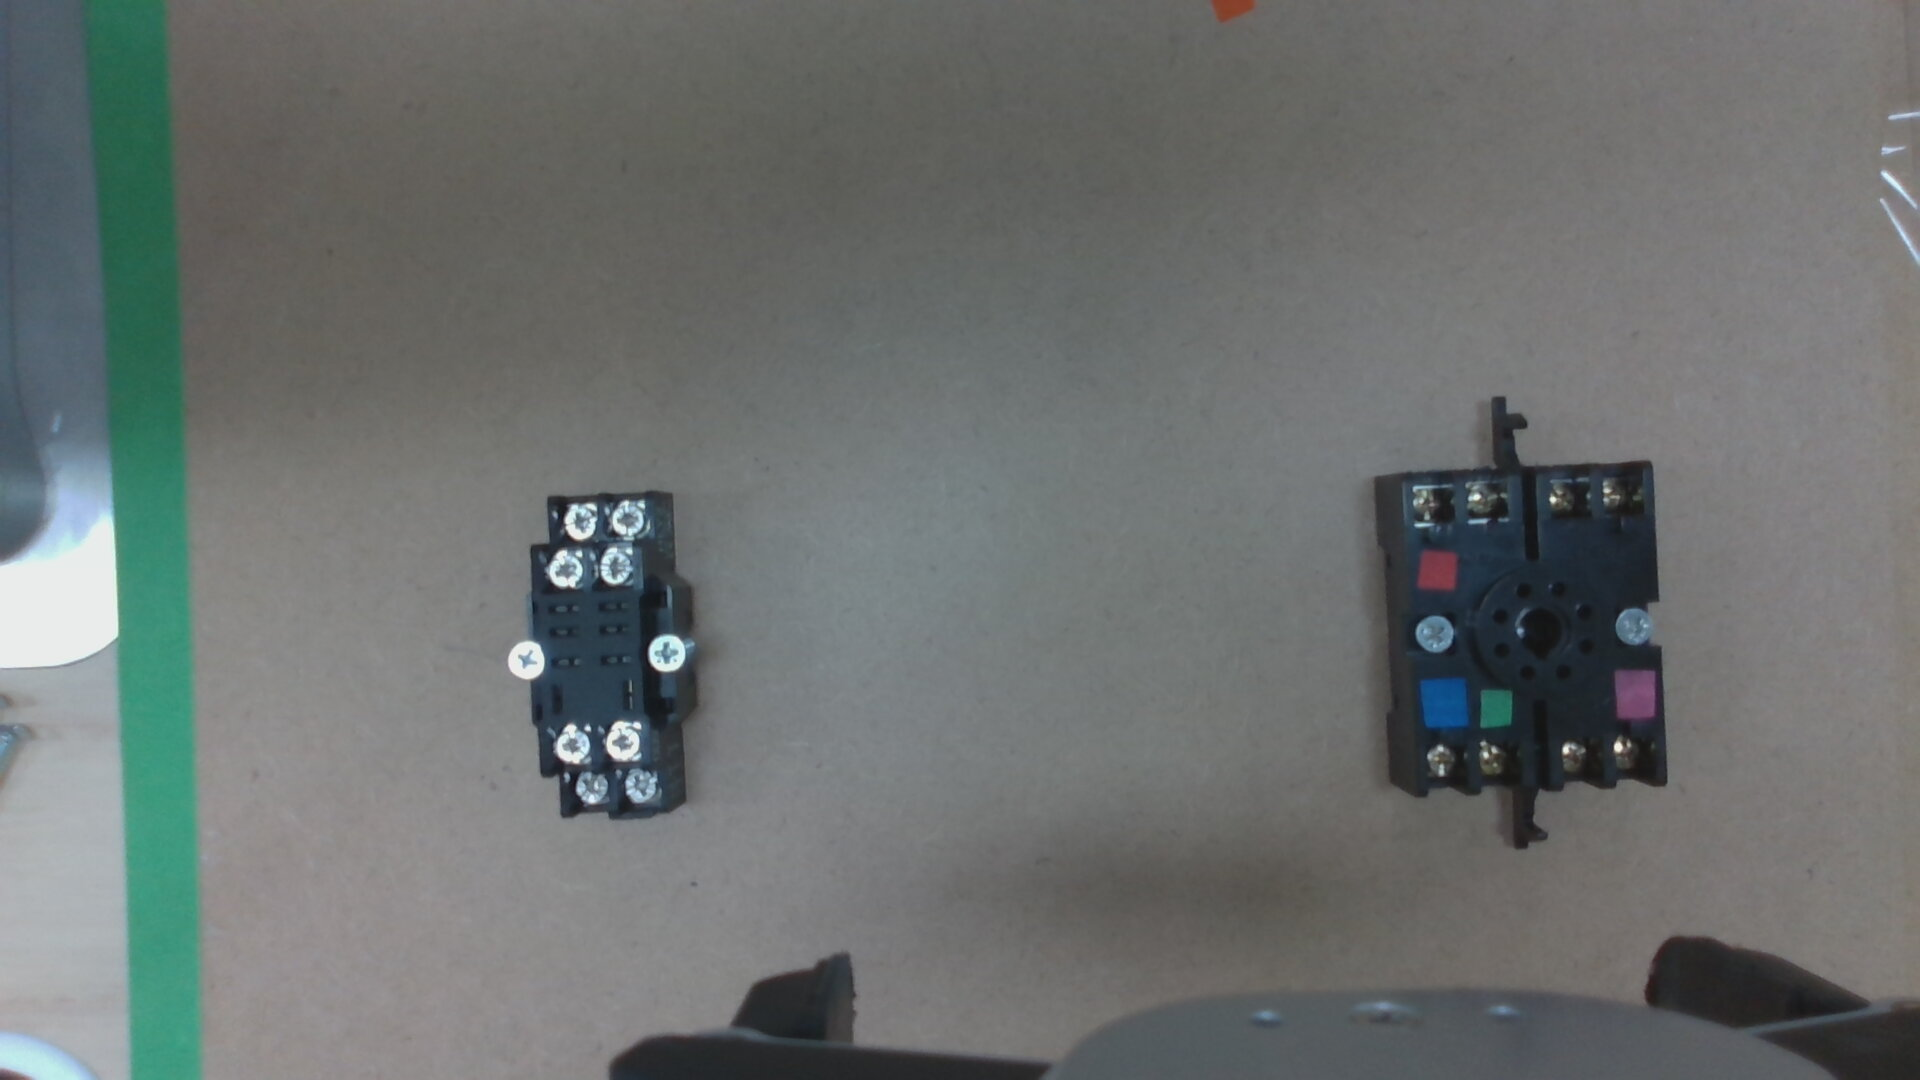relay 3: (607, 501, 645, 537)
relay 4: (556, 506, 595, 539)
relay 5: (620, 771, 657, 804)
relay 6: (570, 773, 607, 804)
relay 7: (603, 727, 641, 761)
relay 8: (550, 727, 589, 764)
